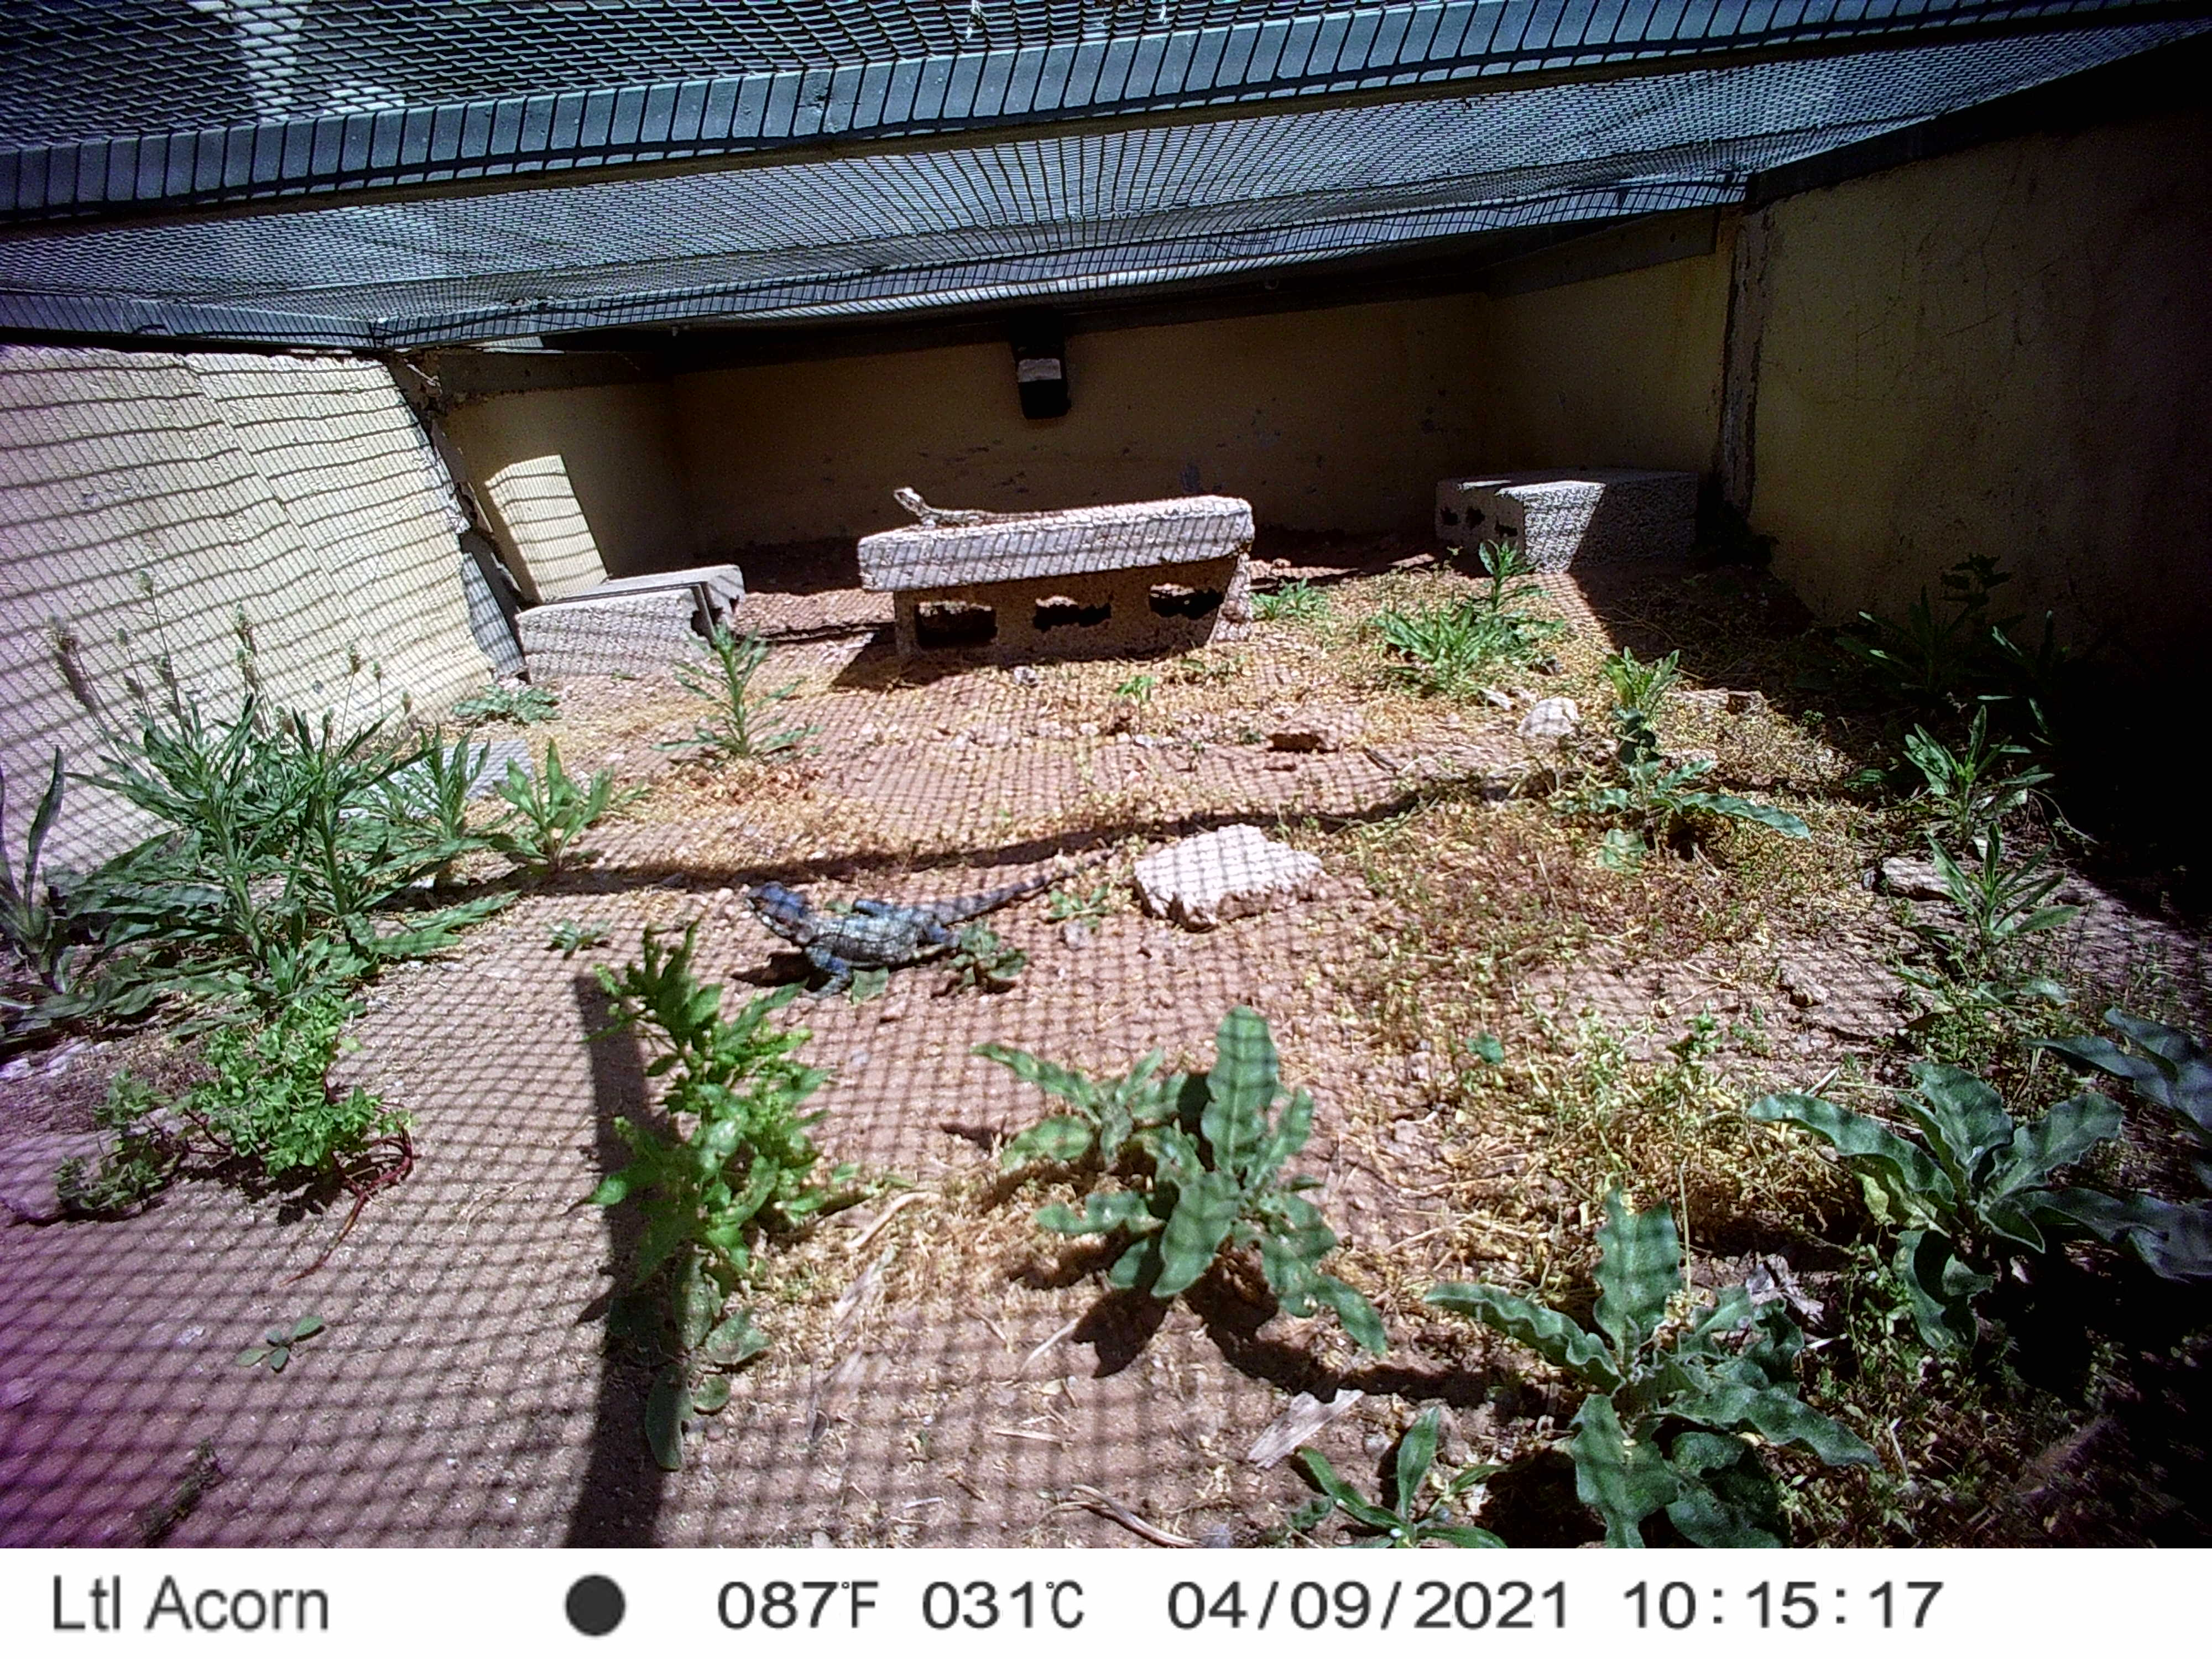lizard: (745, 833, 1141, 1004), (888, 483, 1066, 526)
